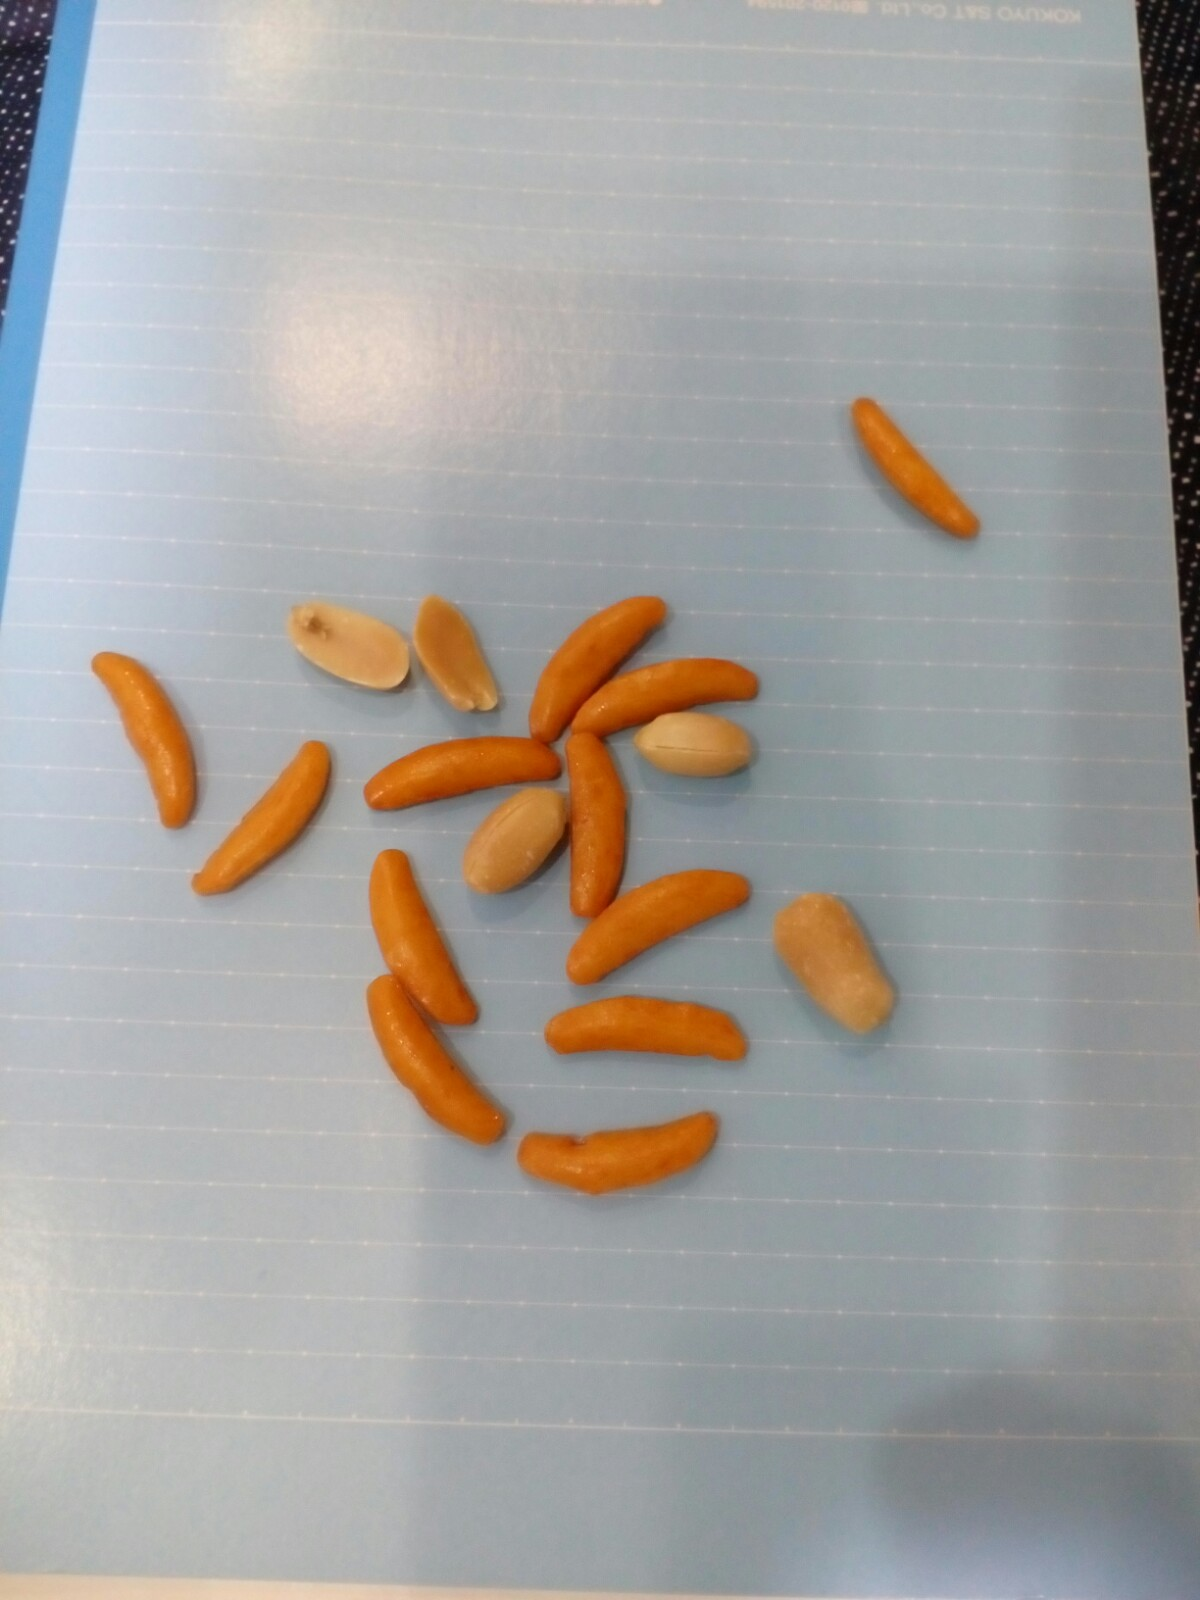peanut: (775, 871, 909, 1054), (465, 780, 577, 905), (282, 585, 418, 687), (405, 591, 511, 721), (642, 711, 776, 782)
